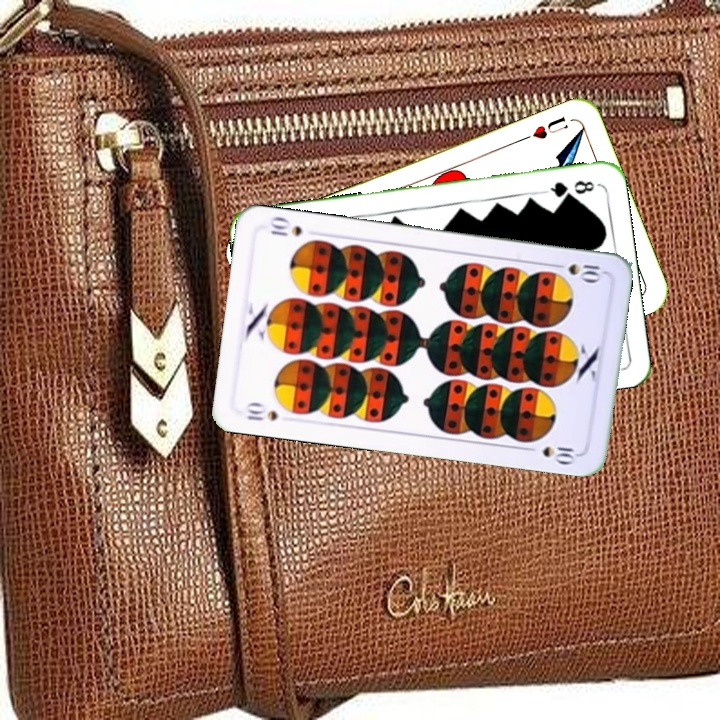G8: (541, 176, 597, 200)
HU: (518, 112, 571, 144)
S10: (548, 259, 607, 284), (242, 399, 280, 424)
